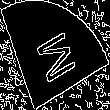M_SW: (30, 23, 80, 87)
